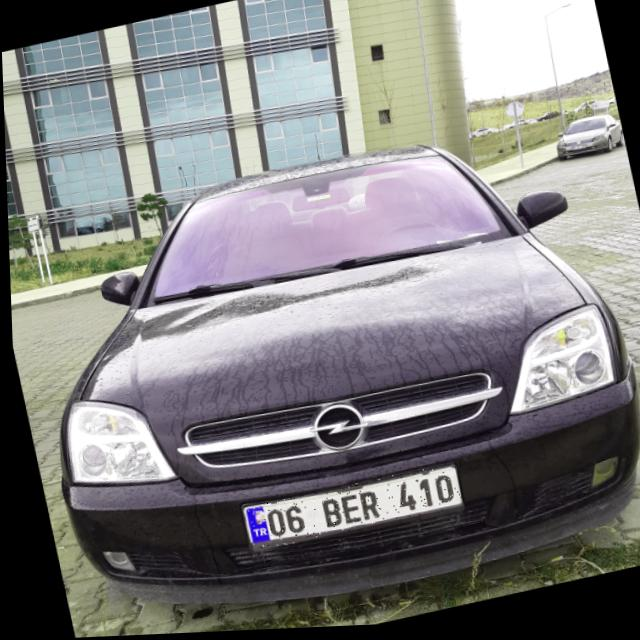license_plate: (238, 465, 460, 554)
